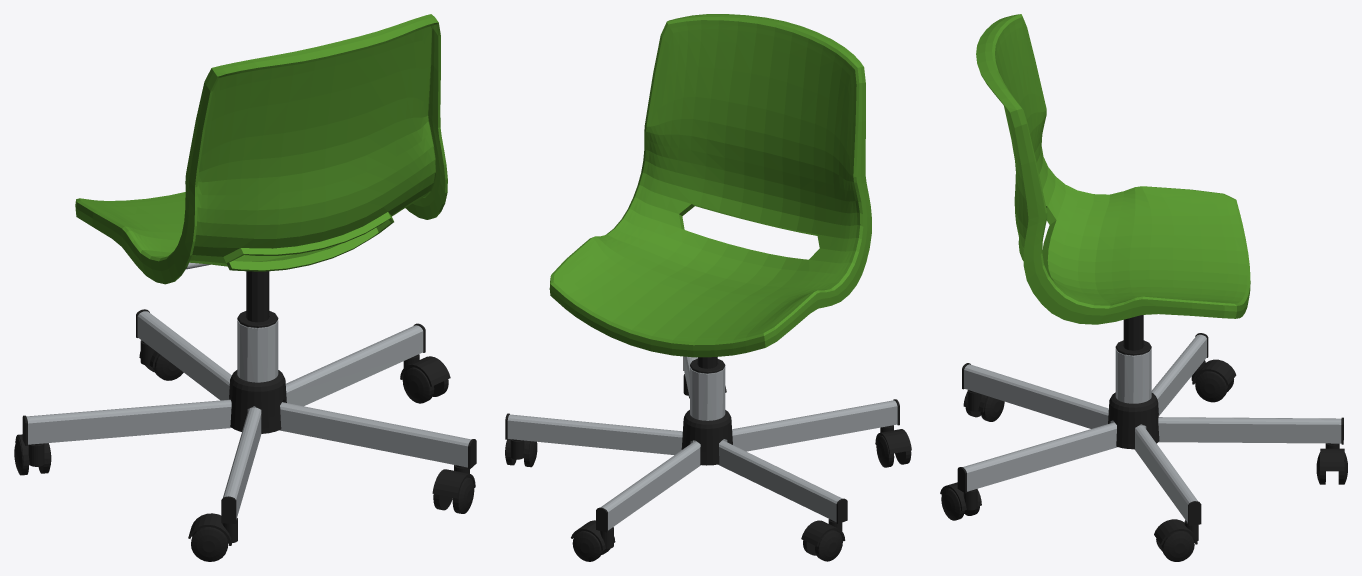
The picture shows the model from 3 angles, left to right: view 1: azimuth 30°, elevation 25°; view 2: azimuth 150°, elevation 25°; view 3: azimuth 270°, elevation 25°; orthographic projection. The views are drawn at different scales.
Visible parts, largest first — view 1: Mesh2 Group2 SNILLE_IKEA1 Model, Mesh8 Group6 SNILLE_IKEA1 Model, Mesh1 Group1 SNILLE_IKEA1 Model, Mesh7 Group5 SNILLE_IKEA1 Model, Mesh3 Group3 SNILLE_IKEA1 Model, Mesh20 ROULETTE4 SNILLE_IKEA1 Model, Mesh12 ROULETTE2 SNILLE_IKEA1 Model, Mesh15 ROULETTE3 SNILLE_IKEA1 Model, Mesh16 ROULETTE3 SNILLE_IKEA1 Model, Mesh18 ROULETTE4 SNILLE_IKEA1 Model, Mesh9 ROULETTE1 SNILLE_IKEA1 Model; view 2: Mesh2 Group2 SNILLE_IKEA1 Model, Mesh8 Group6 SNILLE_IKEA1 Model, Mesh1 Group1 SNILLE_IKEA1 Model, Mesh7 Group5 SNILLE_IKEA1 Model, Mesh23 ROULETTE5 SNILLE_IKEA1 Model, Mesh18 ROULETTE4 SNILLE_IKEA1 Model, Mesh9 ROULETTE1 SNILLE_IKEA1 Model, Mesh11 ROULETTE1 SNILLE_IKEA1 Model, Mesh21 ROULETTE5 SNILLE_IKEA1 Model; view 3: Mesh2 Group2 SNILLE_IKEA1 Model, Mesh8 Group6 SNILLE_IKEA1 Model, Mesh1 Group1 SNILLE_IKEA1 Model, Mesh7 Group5 SNILLE_IKEA1 Model, Mesh3 Group3 SNILLE_IKEA1 Model, Mesh17 ROULETTE3 SNILLE_IKEA1 Model, Mesh10 ROULETTE1 SNILLE_IKEA1 Model, Mesh21 ROULETTE5 SNILLE_IKEA1 Model, Mesh15 ROULETTE3 SNILLE_IKEA1 Model, Mesh9 ROULETTE1 SNILLE_IKEA1 Model, Mesh12 ROULETTE2 SNILLE_IKEA1 Model, Mesh14 ROULETTE2 SNILLE_IKEA1 Model.
Part boxes in pixels (left/top/right/bottom): Mesh2 Group2 SNILLE_IKEA1 Model: left=75, top=14, right=447, bottom=284; Mesh8 Group6 SNILLE_IKEA1 Model: left=22, top=309, right=476, bottom=523; Mesh1 Group1 SNILLE_IKEA1 Model: left=229, top=370, right=286, bottom=433; Mesh7 Group5 SNILLE_IKEA1 Model: left=237, top=320, right=278, bottom=382; Mesh3 Group3 SNILLE_IKEA1 Model: left=237, top=271, right=278, bottom=327; Mesh20 ROULETTE4 SNILLE_IKEA1 Model: left=191, top=527, right=228, bottom=561; Mesh12 ROULETTE2 SNILLE_IKEA1 Model: left=432, top=465, right=475, bottom=498; Mesh15 ROULETTE3 SNILLE_IKEA1 Model: left=400, top=354, right=450, bottom=386; Mesh16 ROULETTE3 SNILLE_IKEA1 Model: left=402, top=367, right=434, bottom=403; Mesh18 ROULETTE4 SNILLE_IKEA1 Model: left=188, top=513, right=237, bottom=545; Mesh9 ROULETTE1 SNILLE_IKEA1 Model: left=15, top=434, right=50, bottom=466; Mesh2 Group2 SNILLE_IKEA1 Model: left=549, top=14, right=871, bottom=357; Mesh8 Group6 SNILLE_IKEA1 Model: left=505, top=356, right=899, bottom=532; Mesh1 Group1 SNILLE_IKEA1 Model: left=681, top=410, right=732, bottom=465; Mesh7 Group5 SNILLE_IKEA1 Model: left=690, top=367, right=725, bottom=420; Mesh23 ROULETTE5 SNILLE_IKEA1 Model: left=572, top=530, right=602, bottom=561; Mesh18 ROULETTE4 SNILLE_IKEA1 Model: left=875, top=425, right=911, bottom=454; Mesh9 ROULETTE1 SNILLE_IKEA1 Model: left=801, top=519, right=845, bottom=546; Mesh11 ROULETTE1 SNILLE_IKEA1 Model: left=815, top=530, right=842, bottom=561; Mesh21 ROULETTE5 SNILLE_IKEA1 Model: left=571, top=520, right=615, bottom=550; Mesh2 Group2 SNILLE_IKEA1 Model: left=976, top=14, right=1250, bottom=324; Mesh8 Group6 SNILLE_IKEA1 Model: left=957, top=333, right=1343, bottom=525; Mesh1 Group1 SNILLE_IKEA1 Model: left=1108, top=392, right=1159, bottom=449; Mesh7 Group5 SNILLE_IKEA1 Model: left=1115, top=348, right=1151, bottom=403; Mesh3 Group3 SNILLE_IKEA1 Model: left=1115, top=315, right=1151, bottom=355; Mesh17 ROULETTE3 SNILLE_IKEA1 Model: left=1161, top=531, right=1194, bottom=561; Mesh10 ROULETTE1 SNILLE_IKEA1 Model: left=1195, top=371, right=1227, bottom=402; Mesh21 ROULETTE5 SNILLE_IKEA1 Model: left=1320, top=443, right=1344, bottom=471; Mesh15 ROULETTE3 SNILLE_IKEA1 Model: left=1154, top=519, right=1198, bottom=544; Mesh9 ROULETTE1 SNILLE_IKEA1 Model: left=1191, top=359, right=1236, bottom=385; Mesh12 ROULETTE2 SNILLE_IKEA1 Model: left=940, top=482, right=981, bottom=511; Mesh14 ROULETTE2 SNILLE_IKEA1 Model: left=941, top=488, right=964, bottom=520.
Size of the model in its own units: 0.5949 by 0.6727 by 0.5872.
